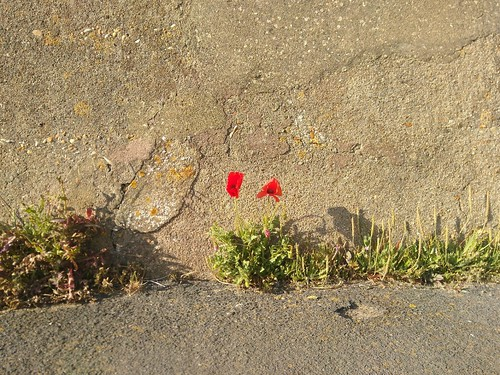flowers: (204, 165, 308, 257)
